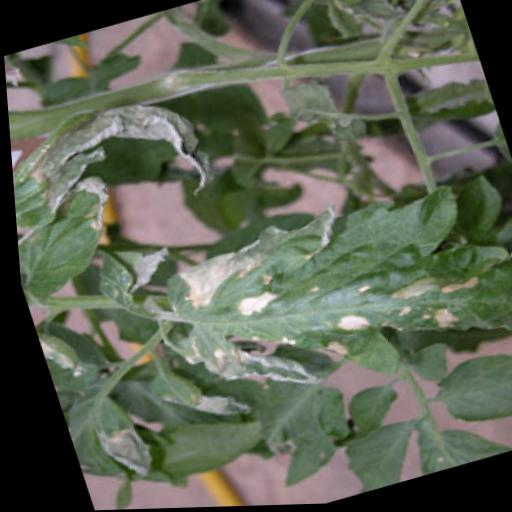Bacterial Spot: (130, 160, 512, 430), (5, 86, 222, 250), (10, 171, 135, 303), (74, 386, 151, 487)
Healthy: (416, 336, 512, 439), (325, 420, 420, 499)
